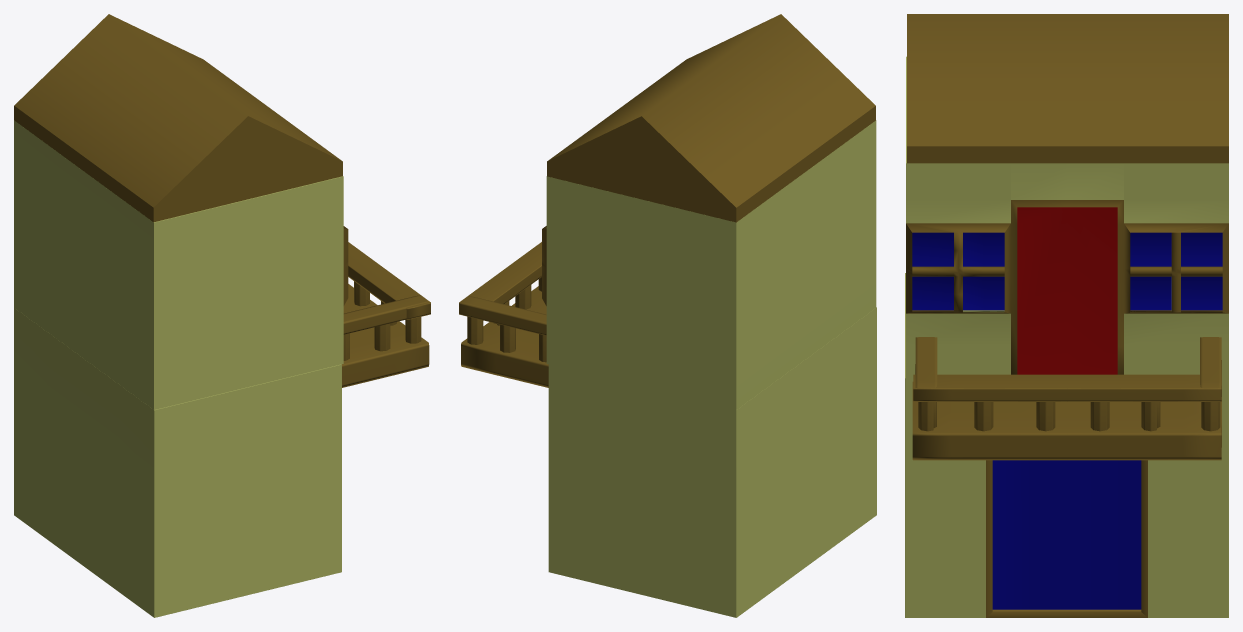
The model's file is ngoinha2.fbx.
3 renders of one model, left to right at view 1: azimuth 30°, elevation 25°; view 2: azimuth 150°, elevation 25°; view 3: azimuth 270°, elevation 25°, orthographic. The views are drawn at different scales.
Visible parts, largest first — view 1: pCube10; view 2: pCube10; view 3: pCube10.
Boxes of the visible parts, box(x1,y1,x2,y2) form: pCube10: box(14, 14, 430, 617); pCube10: box(459, 14, 876, 617); pCube10: box(905, 14, 1228, 617).
Size of the model in its own units: 5.78 by 9.43 by 5.02.
